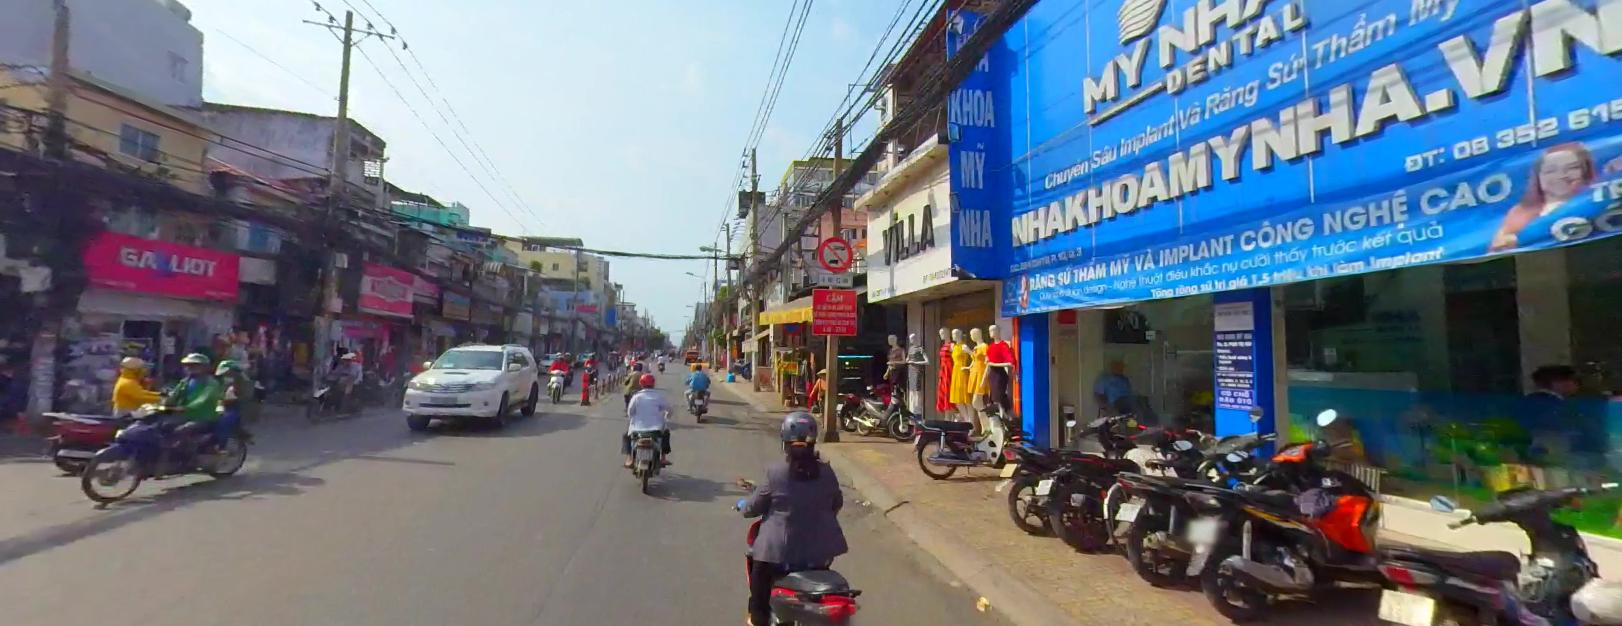Cam con lai: (818, 235, 853, 270)
